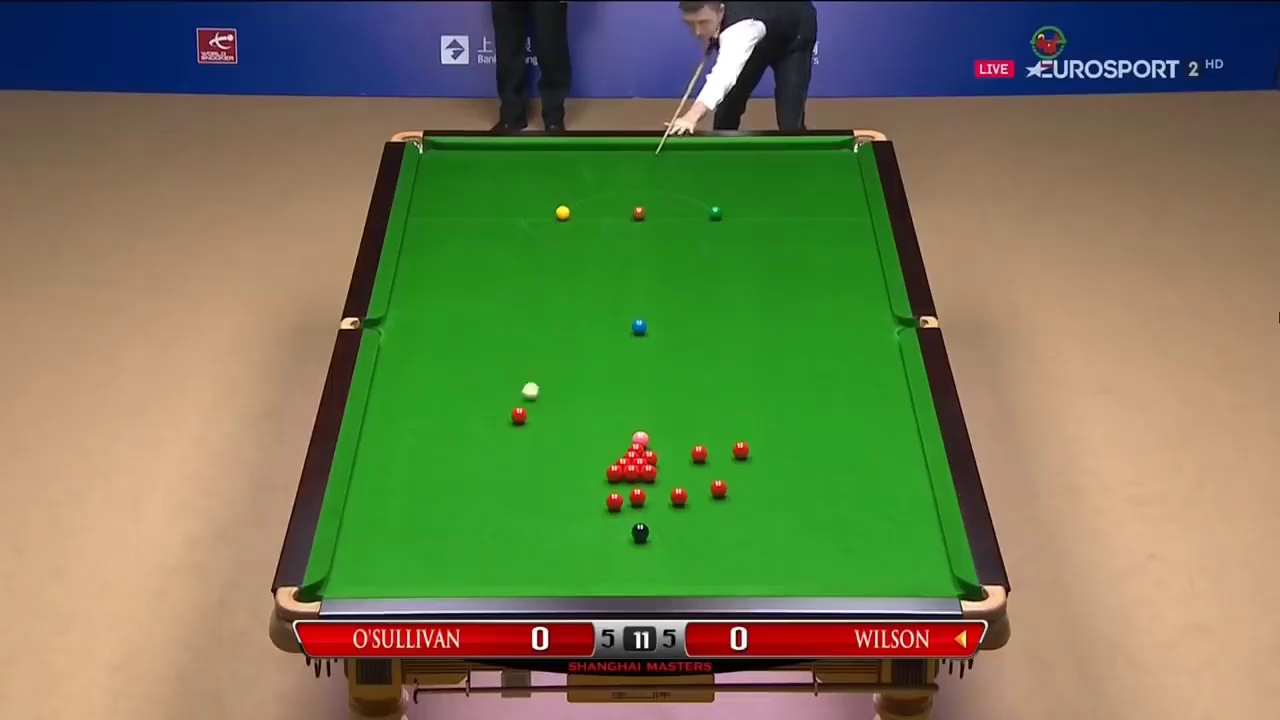ball: (707, 479, 728, 499), (667, 486, 688, 504), (687, 445, 708, 463), (604, 492, 624, 510), (630, 522, 649, 540), (733, 440, 749, 458), (629, 489, 646, 505), (631, 203, 646, 219), (509, 406, 524, 422), (555, 204, 570, 219), (630, 319, 645, 334), (707, 205, 723, 219)
